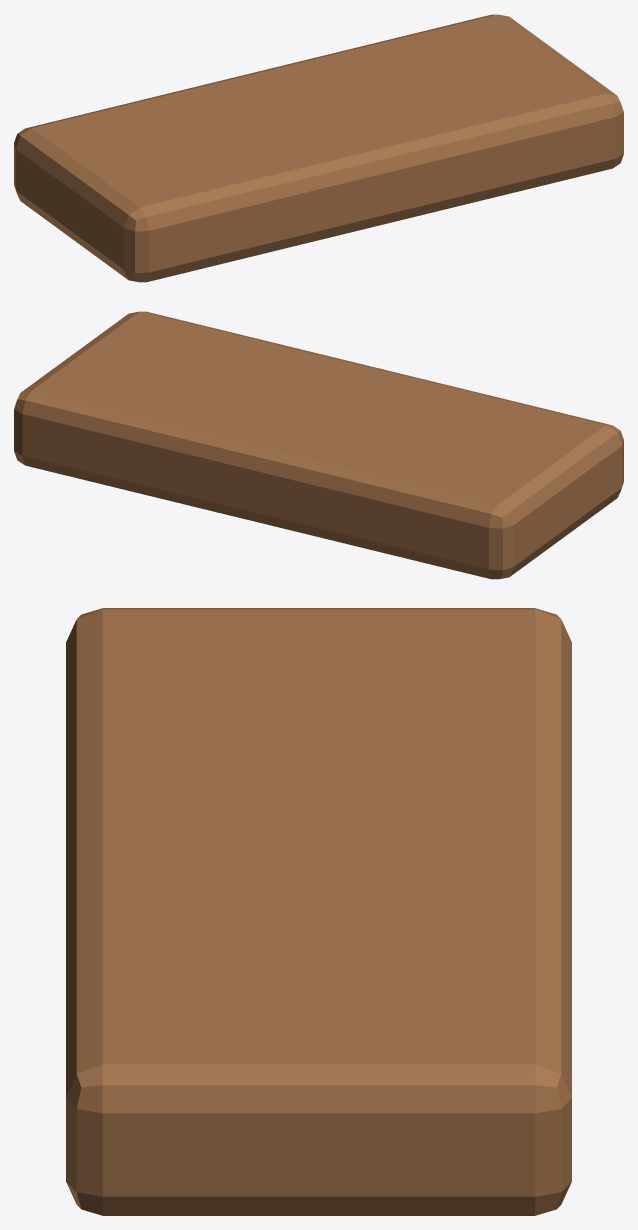
File: ladder_step_cube.glb
3 renders of one model, top to bottom at view 1: azimuth 30°, elevation 25°; view 2: azimuth 150°, elevation 25°; view 3: azimuth 270°, elevation 25°, orthographic. The views are drawn at different scales.
Visible parts, largest first — view 1: LadderStepCube; view 2: LadderStepCube; view 3: LadderStepCube.
Boxes of the visible parts, left/top/right/bottom form: LadderStepCube: left=14, top=14, right=623, bottom=282; LadderStepCube: left=14, top=311, right=623, bottom=579; LadderStepCube: left=66, top=608, right=571, bottom=1215.
Bounding box in the file's own units: 1.25 × 0.18 × 0.55.
